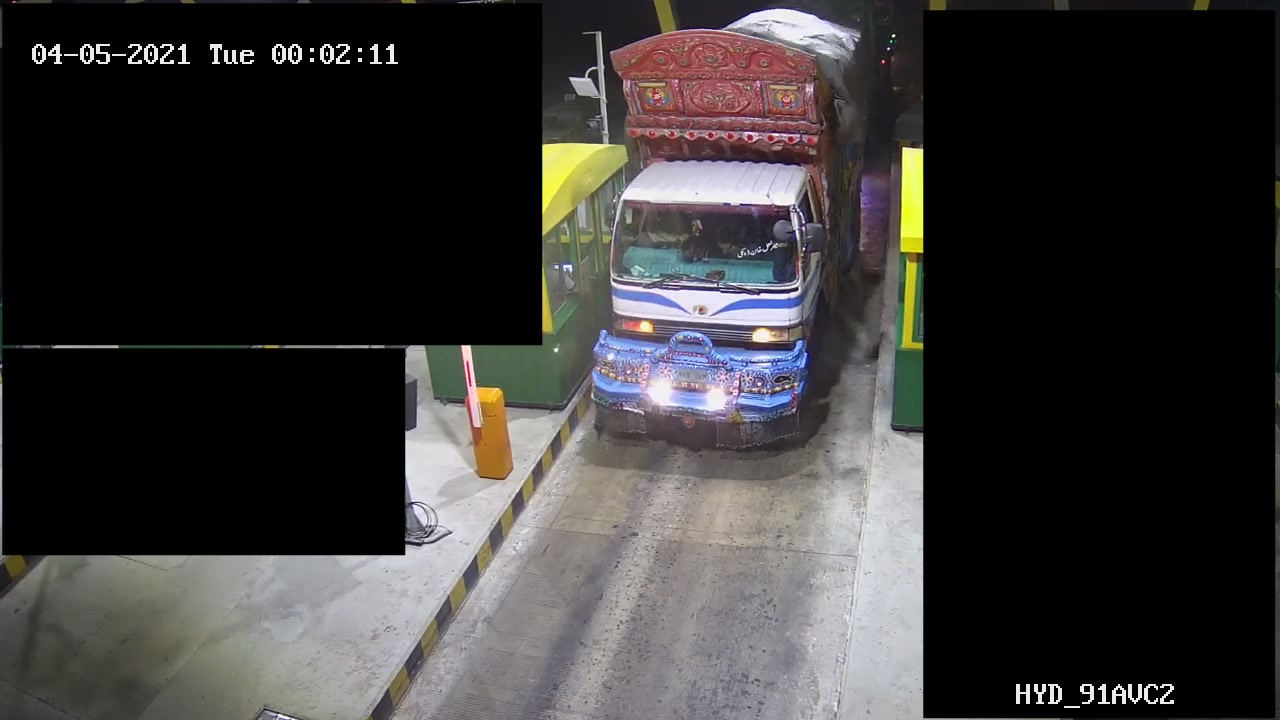F5: (583, 4, 878, 453)
